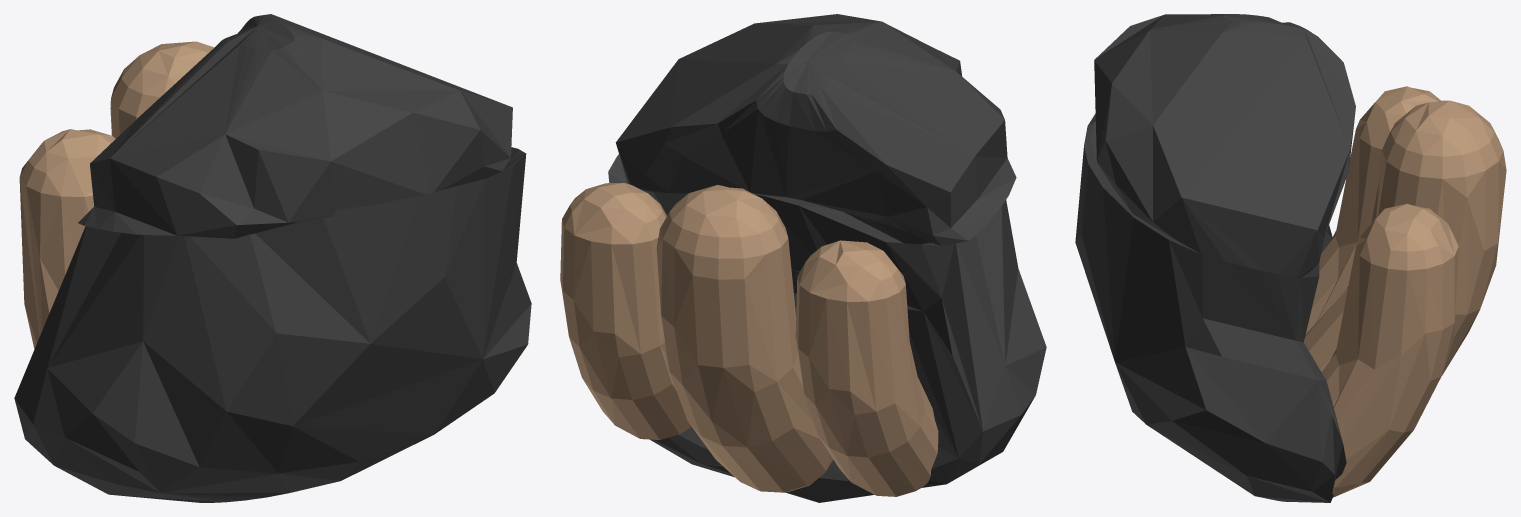
The model's file is hand_primate_optimized60.glb.
3 renders of one model, left to right at view 1: azimuth 30°, elevation 25°; view 2: azimuth 150°, elevation 25°; view 3: azimuth 270°, elevation 25°, orthographic. The views are drawn at different scales.
Parts seen in each view (by area): view 1: hand_primate_fur, hand_primate_claws; view 2: hand_primate_fur, hand_primate_claws; view 3: hand_primate_fur, hand_primate_claws.
Boxes of the visible parts, box(x1,y1,x2,y2) form: hand_primate_fur: box(14, 14, 531, 502); hand_primate_claws: box(19, 41, 214, 349); hand_primate_fur: box(608, 14, 1046, 502); hand_primate_claws: box(560, 183, 938, 496); hand_primate_fur: box(1075, 14, 1355, 502); hand_primate_claws: box(1304, 86, 1506, 497).
Size of the model in its own units: 1.48 by 1.43 by 1.26.
